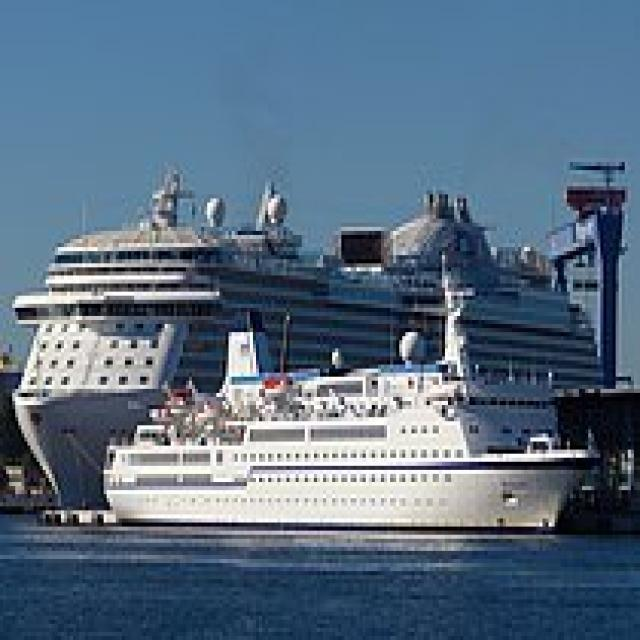Ship: (96, 325, 611, 552)
